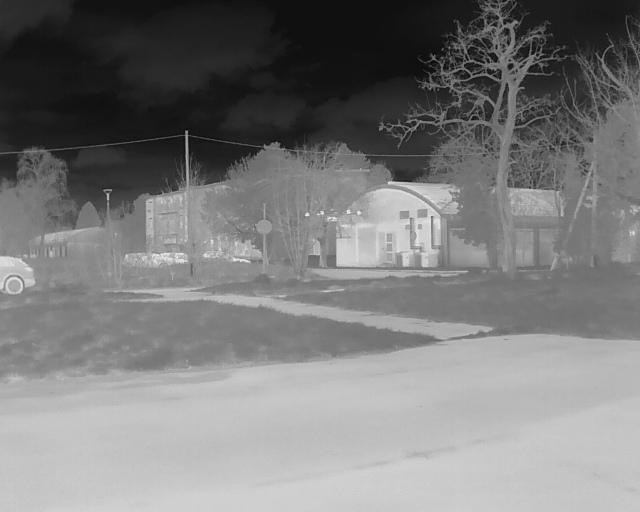drone: (300, 198, 366, 240)
